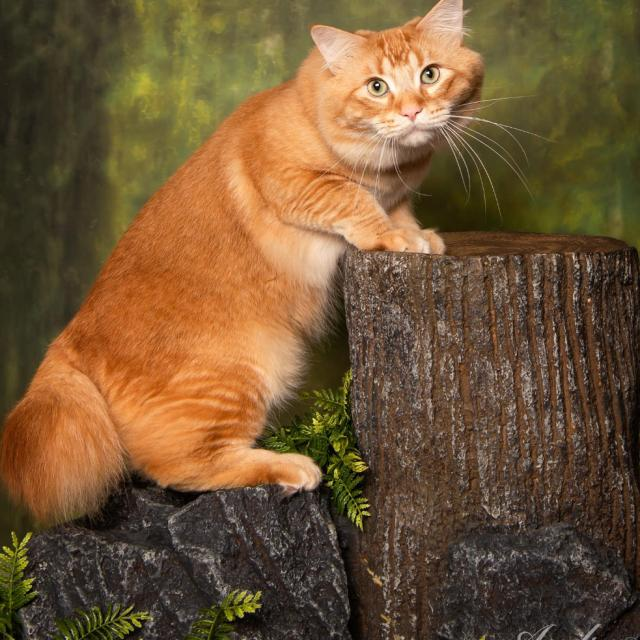American Bobtail: (0, 0, 493, 532)
